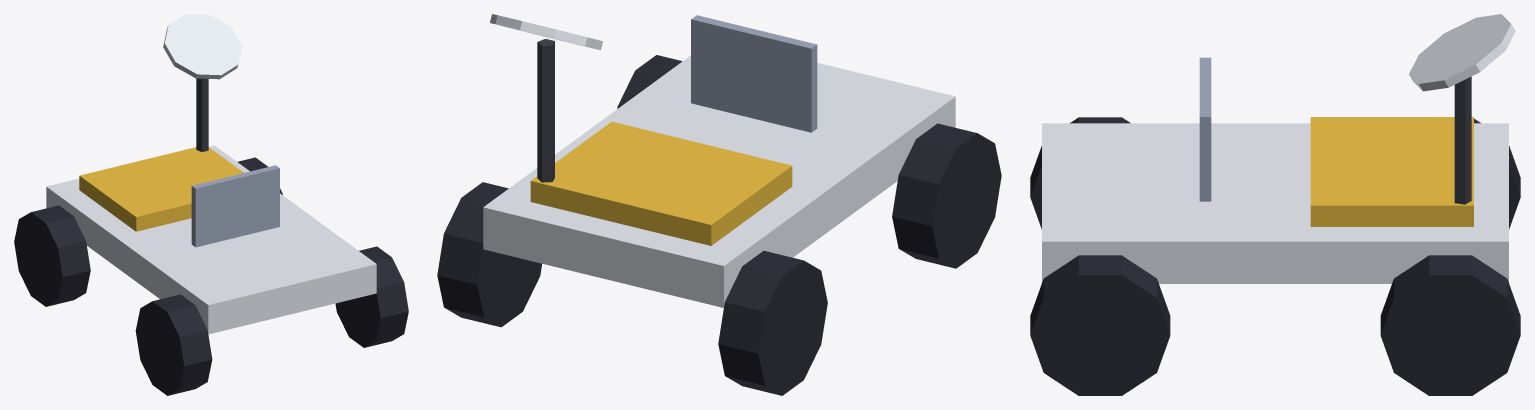
Rendered from lowpoly-moon_rover.glb.
3 views of the same model, side by side, from view 1: azimuth 30°, elevation 25°; view 2: azimuth 150°, elevation 25°; view 3: azimuth 270°, elevation 25° (orthographic). The views are drawn at different scales.
Parts seen in each view (by area): view 1: moon_rover; view 2: moon_rover; view 3: moon_rover.
Boxes of the visible parts, box(x1,y1,x2,y2) form: moon_rover: box(14, 14, 408, 395); moon_rover: box(437, 14, 1001, 395); moon_rover: box(1030, 14, 1520, 395).
Size of the model in its own units: 1.6 by 1.57 by 2.1.
